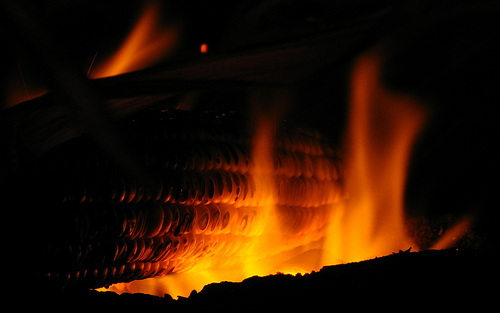corn: (79, 132, 351, 277)
